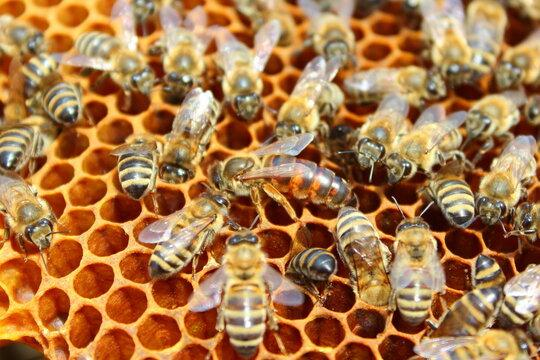Queen-Bee: (212, 134, 356, 220)
worker-bee: (0, 145, 413, 303), (188, 228, 303, 357), (60, 0, 155, 106), (139, 188, 229, 278), (390, 197, 445, 325), (212, 19, 280, 121), (384, 104, 466, 184), (275, 56, 343, 138), (345, 93, 408, 181), (475, 135, 536, 225), (336, 206, 391, 305), (0, 170, 58, 261), (158, 5, 211, 101), (420, 0, 471, 86), (343, 65, 446, 106), (414, 330, 528, 359), (111, 134, 160, 199)
